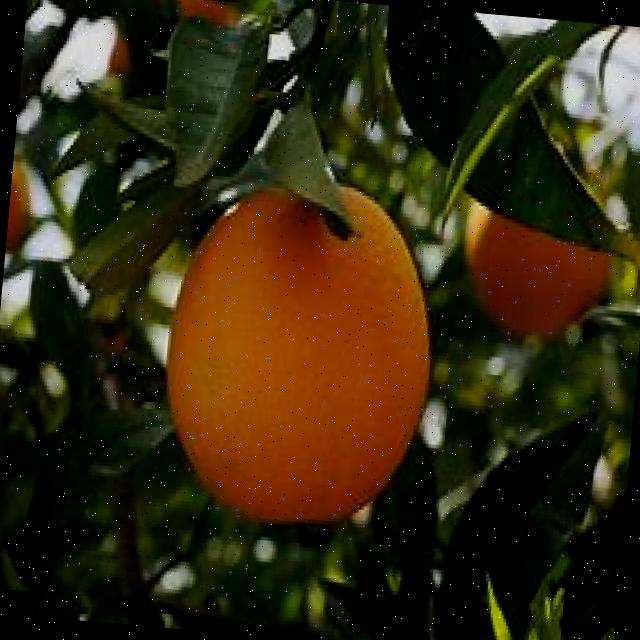orange: (154, 165, 446, 536)
